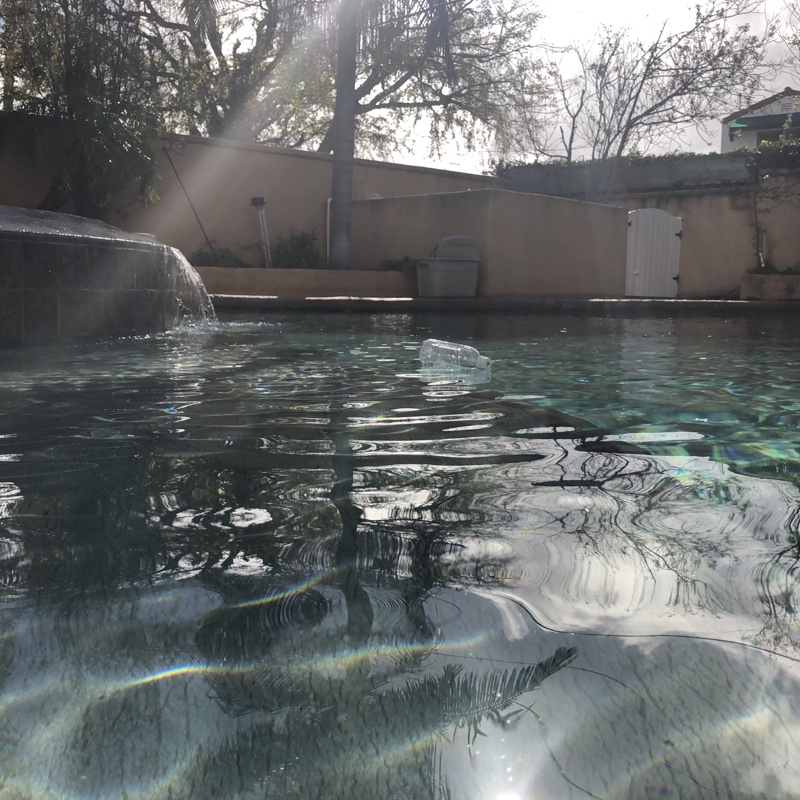Plastic Bottle: (414, 336, 495, 381)
